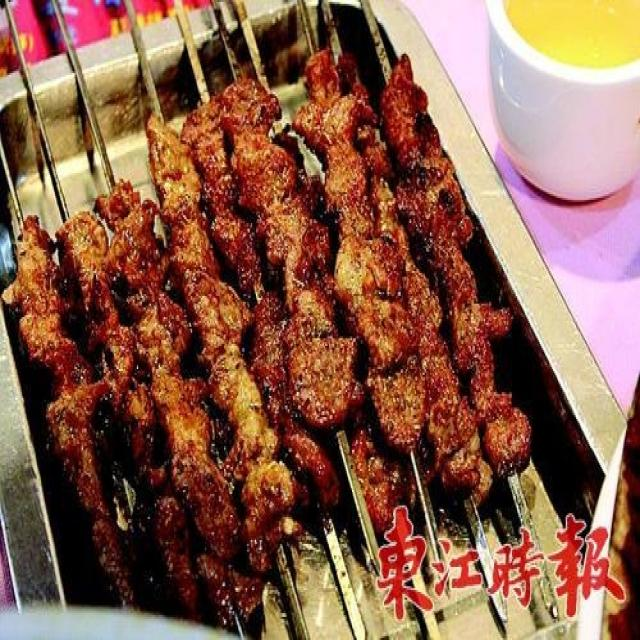烧串烤肉: (5, 23, 574, 586)
